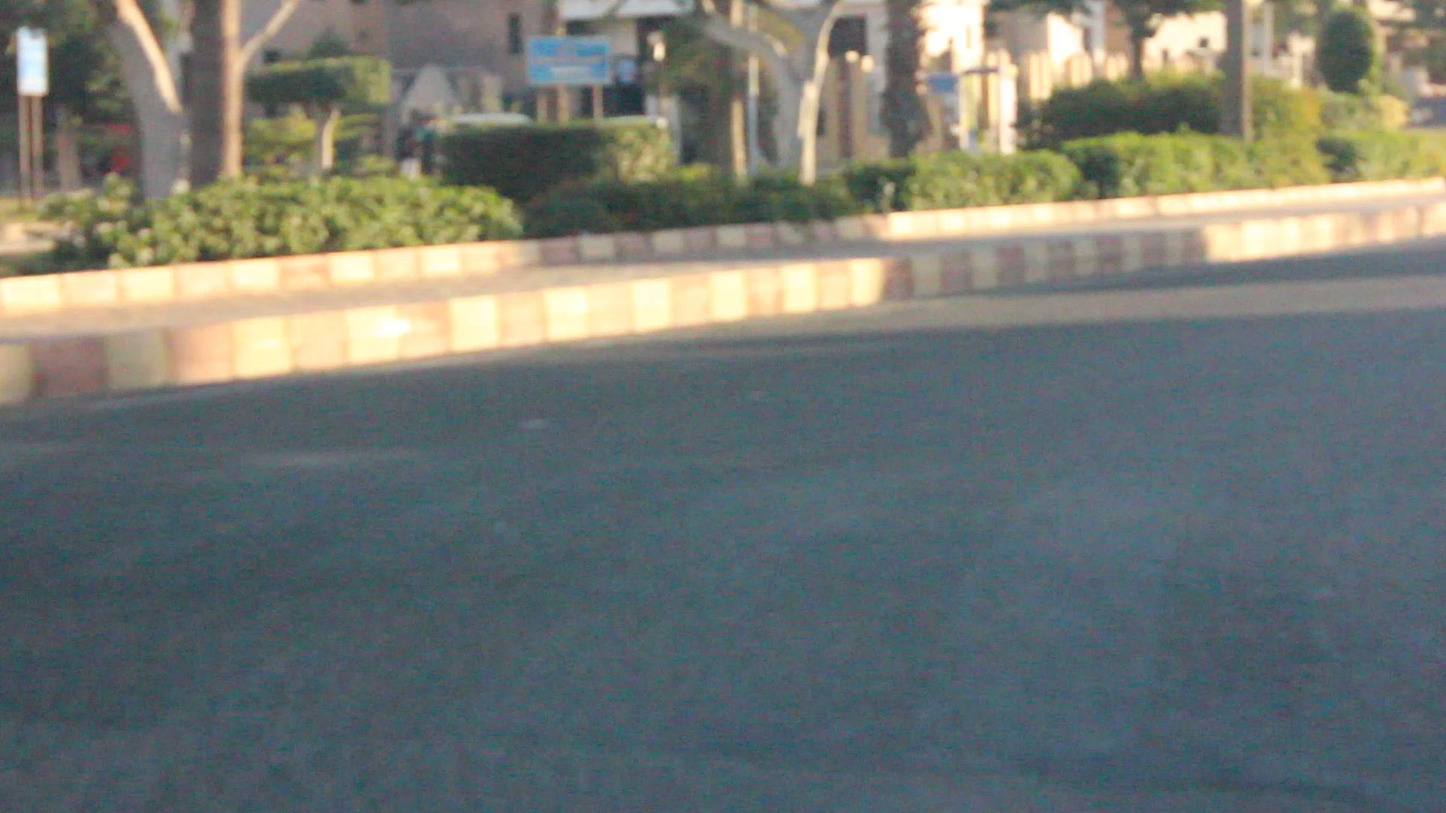Bump: (6, 420, 1446, 768)
